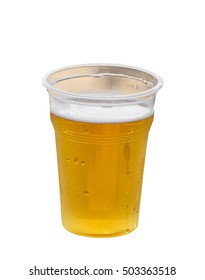plastic_glass: (41, 56, 167, 241)
